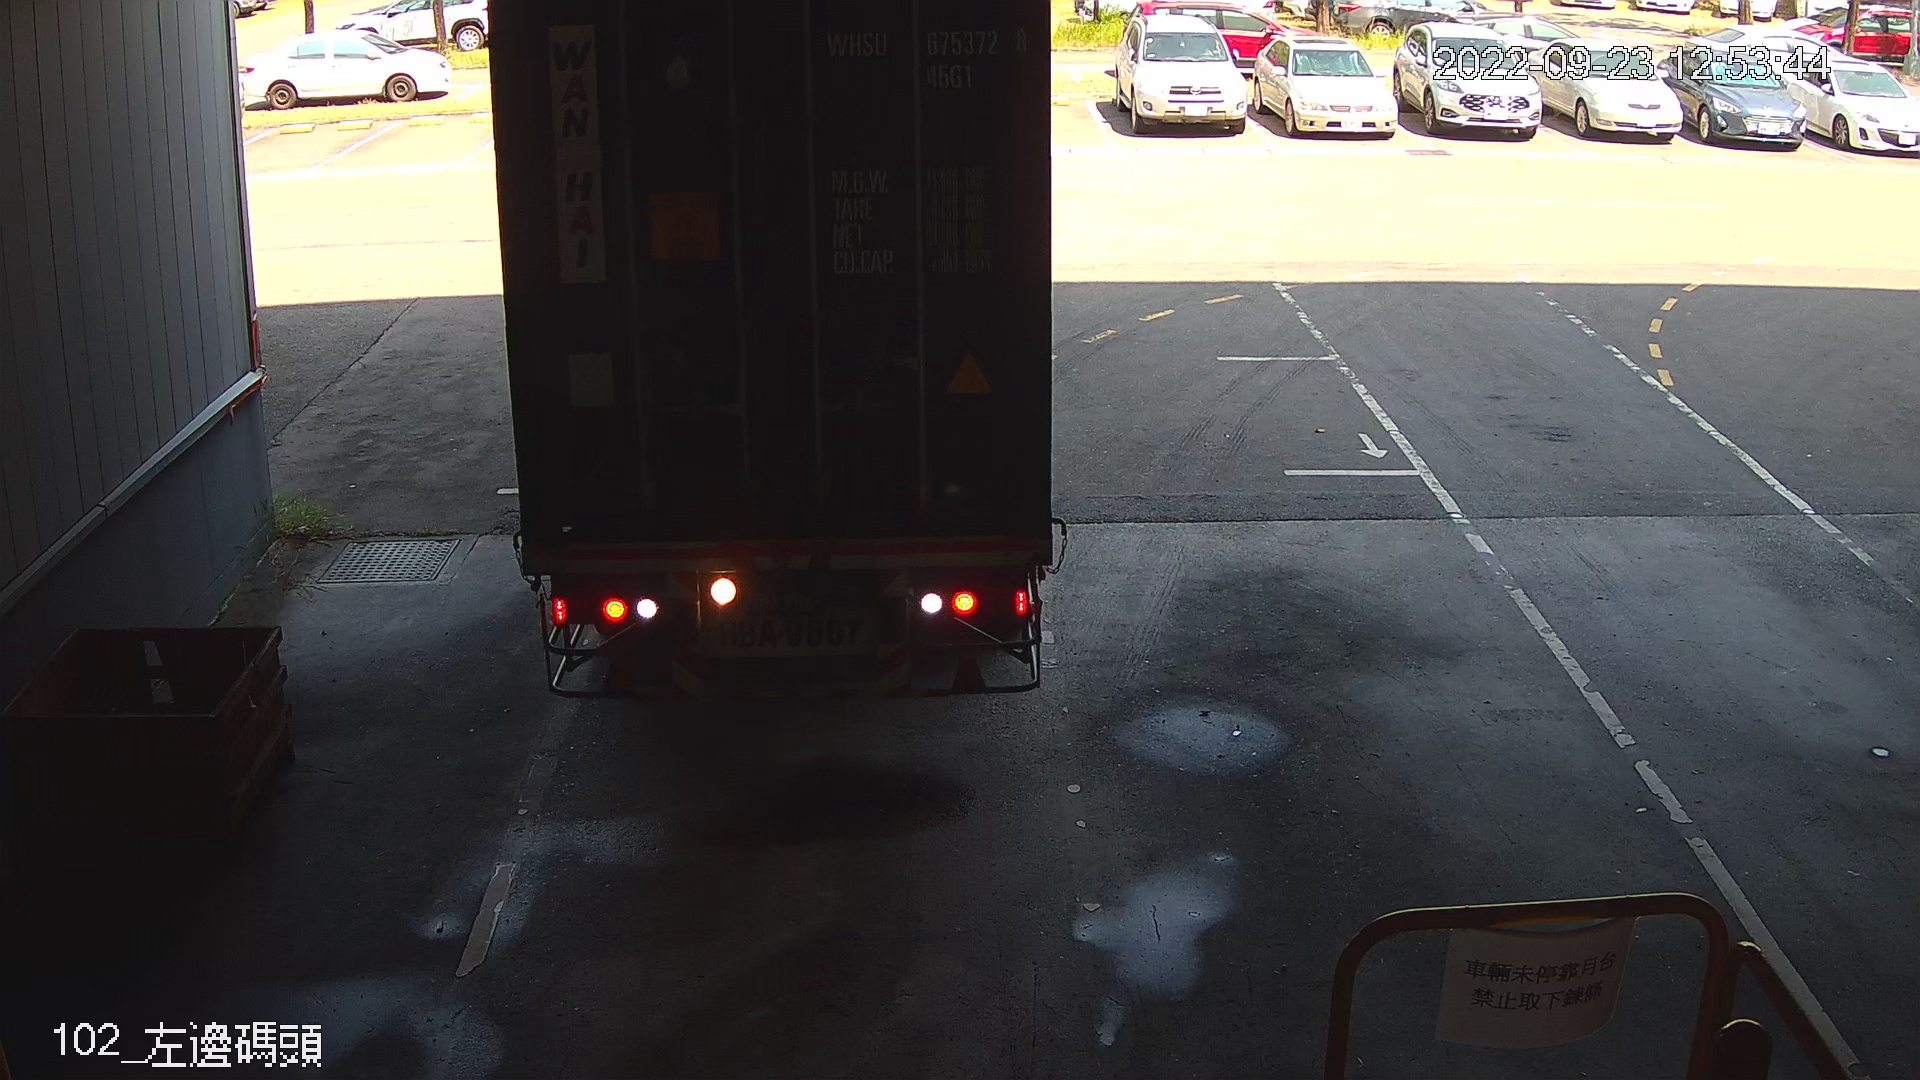container: (818, 22, 1038, 98)
